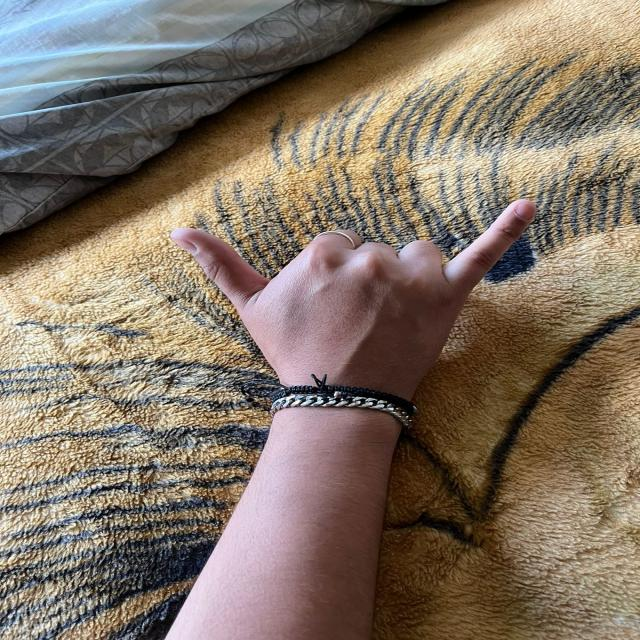Y: (164, 186, 539, 388)
